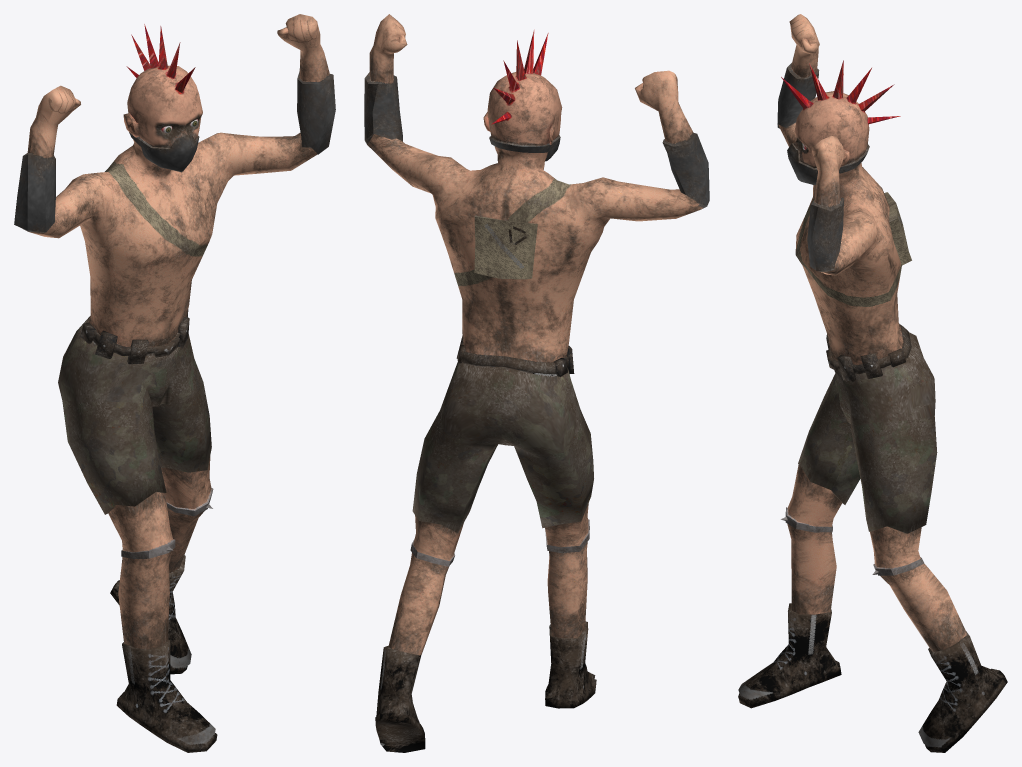
The model's file is Anim_ganar_1_npc2.0023.obj.
3 renders of one model, left to right at view 1: azimuth 30°, elevation 25°; view 2: azimuth 150°, elevation 25°; view 3: azimuth 270°, elevation 25°, orthographic. The views are drawn at different scales.
Parts seen in each view (by area): view 1: polySurface1; view 2: polySurface1; view 3: polySurface1.
Part boxes in pixels (box(x1,y1,x2,y2)): polySurface1: box(14, 14, 335, 752); polySurface1: box(364, 14, 709, 752); polySurface1: box(738, 14, 1007, 752).
Size of the model in its own units: 5.18 by 10.43 by 3.85.
2 materials, 2 textured.
